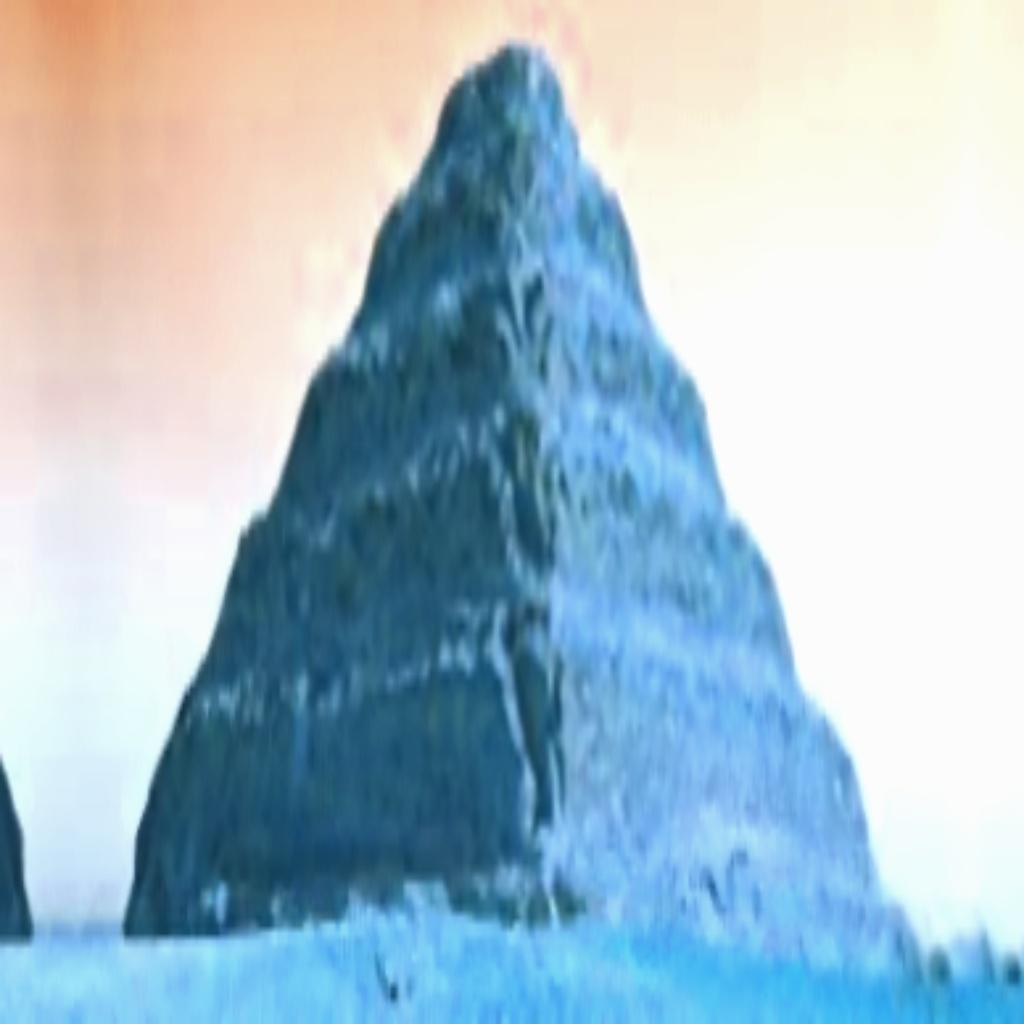Pyramid of Djoser: (114, 16, 924, 969)
